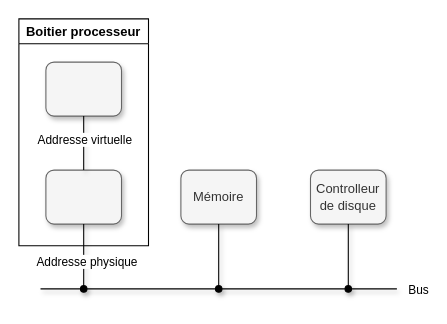
Some shapes in this 447 by 324 pixel diagram are drawn without their labels. The shapes that lost their labels are listed below. From the top down, each one's centre as x and y in pixels, then its label:
At point (84, 90): "Puce du processeur".
At point (84, 198): "MMU".
